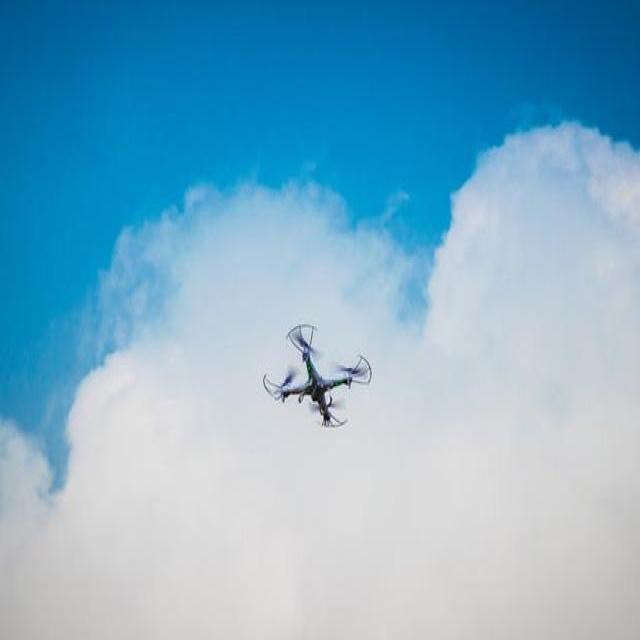drone: (260, 318, 374, 432)
